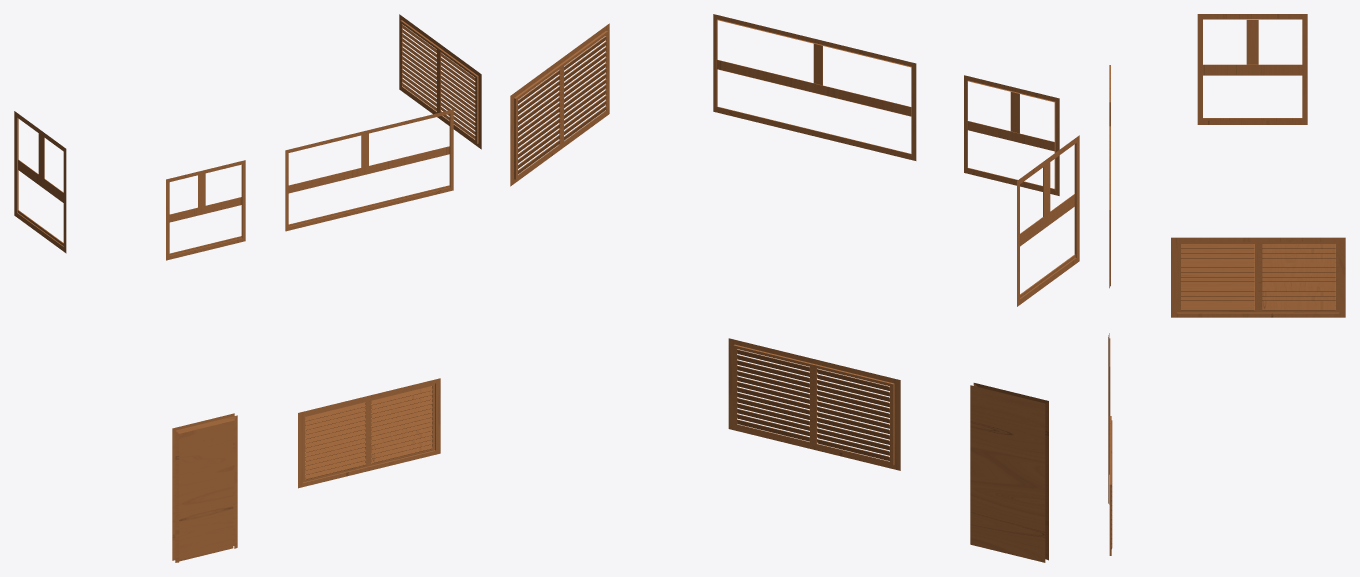
File: buildig.001_wood_(shine)_0_lev3.glb
The picture shows the model from 3 angles, left to right: view 1: azimuth 30°, elevation 25°; view 2: azimuth 150°, elevation 25°; view 3: azimuth 270°, elevation 25°; orthographic projection. The views are drawn at different scales.
Parts seen in each view (by area): view 1: buildig.001_wood_(shine)_0_lev3; view 2: buildig.001_wood_(shine)_0_lev3; view 3: buildig.001_wood_(shine)_0_lev3.
Part boxes in pixels (left/top/right/bottom): buildig.001_wood_(shine)_0_lev3: left=14, top=14, right=481, bottom=562; buildig.001_wood_(shine)_0_lev3: left=510, top=14, right=1079, bottom=562; buildig.001_wood_(shine)_0_lev3: left=1108, top=14, right=1345, bottom=555.
Size of the model in its own units: 2.06 by 1.96 by 0.993.
Materials: 1 (1 with a texture image).
